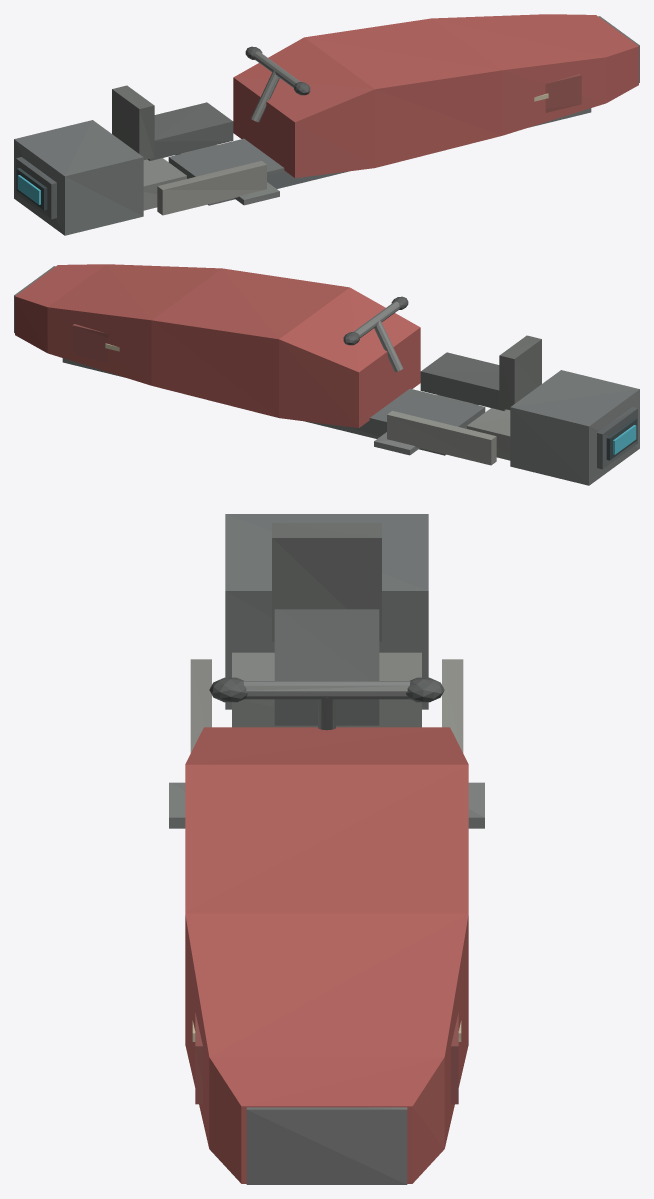
The model's file is spacebike_red_on.glb.
3 renders of one model, top to bottom at view 1: azimuth 30°, elevation 25°; view 2: azimuth 150°, elevation 25°; view 3: azimuth 270°, elevation 25°, orthographic. The views are drawn at different scales.
Visible parts, largest first — view 1: forward_hull, rear_engine_block, cockpit_side_-0.47, seat_base, underside_spine, seat_back, rear_frame, side_panel_-0.47, exhaust_frame, steering_column, handlebars, footrest_-0.47 (+2 smaller); view 2: forward_hull, rear_engine_block, cockpit_side_0.47, seat_base, underside_spine, seat_back, rear_frame, side_panel_0.47, exhaust_frame, steering_column, handlebars, footrest_0.47 (+2 smaller); view 3: forward_hull, rear_engine_block, nose_bulkhead, seat_base, seat_back, rear_frame, handlebars, cockpit_side_-0.47, cockpit_side_0.47.
Part boxes in pixels (bbox=[...]): forward_hull: bbox=[233, 14, 638, 177]; rear_engine_block: bbox=[14, 120, 143, 235]; cockpit_side_-0.47: bbox=[157, 161, 266, 215]; seat_base: bbox=[147, 102, 233, 160]; underside_spine: bbox=[168, 108, 591, 205]; seat_back: bbox=[112, 85, 154, 159]; rear_frame: bbox=[143, 158, 186, 210]; side_panel_-0.47: bbox=[545, 74, 581, 112]; exhaust_frame: bbox=[16, 157, 56, 219]; steering_column: bbox=[250, 70, 279, 122]; handlebars: bbox=[254, 51, 300, 87]; footrest_-0.47: bbox=[234, 182, 279, 205]; forward_hull: bbox=[15, 264, 420, 427]; rear_engine_block: bbox=[510, 370, 639, 485]; cockpit_side_0.47: bbox=[387, 411, 496, 465]; seat_base: bbox=[420, 352, 506, 410]; underside_spine: bbox=[62, 358, 485, 455]; seat_back: bbox=[499, 335, 541, 409]; rear_frame: bbox=[467, 408, 510, 460]; side_panel_0.47: bbox=[72, 324, 108, 362]; exhaust_frame: bbox=[597, 407, 637, 469]; steering_column: bbox=[374, 320, 403, 372]; handlebars: bbox=[353, 301, 399, 337]; footrest_0.47: bbox=[374, 432, 419, 455]; forward_hull: bbox=[185, 727, 468, 1183]; rear_engine_block: bbox=[225, 514, 428, 709]; nose_bulkhead: bbox=[246, 1107, 407, 1184]; seat_base: bbox=[274, 609, 379, 725]; seat_back: bbox=[272, 523, 381, 641]; rear_frame: bbox=[232, 652, 421, 727]; handlebars: bbox=[243, 681, 410, 699]; cockpit_side_-0.47: bbox=[190, 659, 211, 752]; cockpit_side_0.47: bbox=[442, 659, 463, 752].
Bounding box in the file's own units: 5.11 × 0.885 × 1.18.
